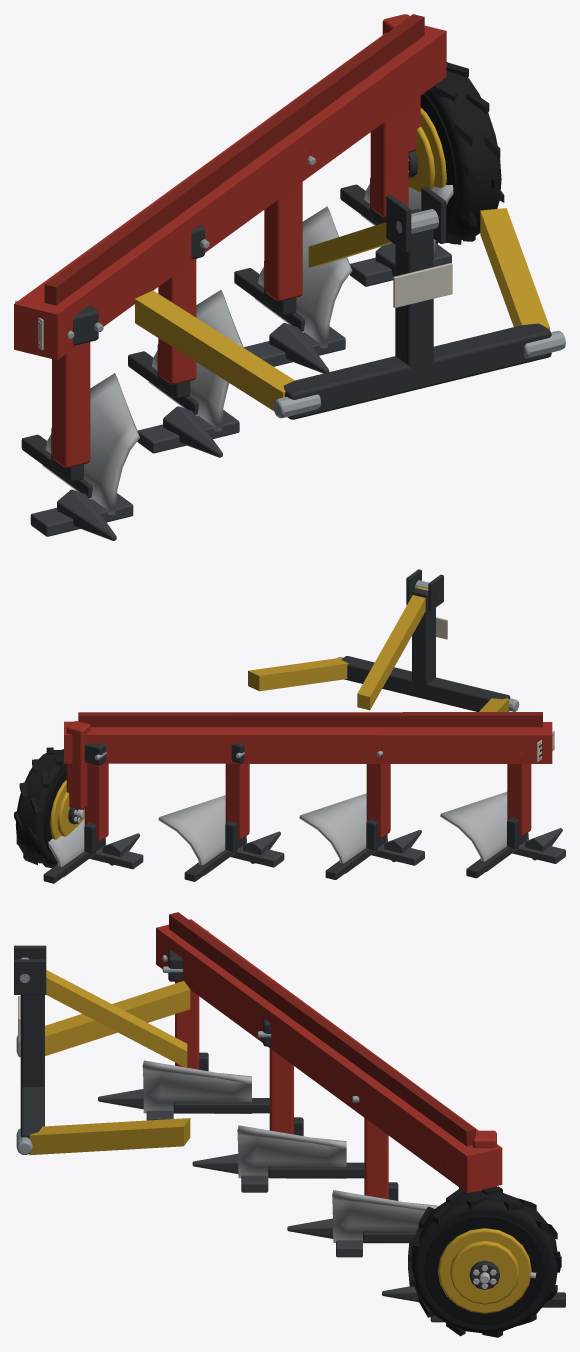
File: im_plow.glb
3 renders of one model, top to bottom at view 1: azimuth 30°, elevation 25°; view 2: azimuth 150°, elevation 25°; view 3: azimuth 270°, elevation 25°, orthographic. The views are drawn at different scales.
Parts seen in each view (by area): view 1: bar.003, bar.004, block.001, bar, cyl.016, mb, block.006, bar.001, mb.002, block.016, block.002, block.021 (+25 smaller); view 2: bar.003, bar.004, block.001, mb.002, mb, mb.001, cyl.016, bar.002, bar.001, block.002, block.016, block.011 (+25 smaller); view 3: bar.003, bar.004, cyl.016, bar.001, cyl.018, mb.001, mb, bar.002, bar, mb.002, cyl.029, cyl.030 (+12 smaller).
Part boxes in pixels (<box>): bar.003: <box>14,25,446,360</box>; bar.004: <box>44,14,424,305</box>; block.001: <box>283,323,551,419</box>; bar: <box>135,290,294,410</box>; cyl.016: <box>424,62,501,242</box>; mb: <box>42,373,139,514</box>; block.006: <box>52,342,90,467</box>; bar.001: <box>480,208,549,329</box>; mb.002: <box>255,206,352,348</box>; block.016: <box>264,182,302,301</box>; block.002: <box>395,209,433,376</box>; block.021: <box>370,105,408,217</box>; bar.003: <box>64,721,552,763</box>; bar.004: <box>78,712,542,727</box>; block.001: <box>342,656,510,711</box>; mb.002: <box>158,795,246,875</box>; mb: <box>440,791,528,871</box>; mb.001: <box>299,793,387,873</box>; cyl.016: <box>15,750,66,864</box>; bar.002: <box>357,586,428,710</box>; bar.001: <box>248,657,348,691</box>; block.002: <box>412,588,435,690</box>; block.016: <box>225,763,249,839</box>; block.011: <box>366,764,390,837</box>; bar.003: <box>156,919,502,1193</box>; bar.004: <box>169,912,475,1146</box>; cyl.016: <box>411,1191,558,1333</box>; bar.001: <box>29,1118,190,1155</box>; cyl.018: <box>424,1215,545,1325</box>; mb.001: <box>237,1125,346,1178</box>; mb: <box>142,1060,251,1113</box>; bar.002: <box>46,970,187,1068</box>; bar: <box>45,981,190,1055</box>; mb.002: <box>332,1190,439,1243</box>; cyl.029: <box>438,1228,531,1313</box>; cyl.030: <box>450,1240,519,1304</box>.
Size of the model in its own units: 2.24 by 1.07 by 2.04.
